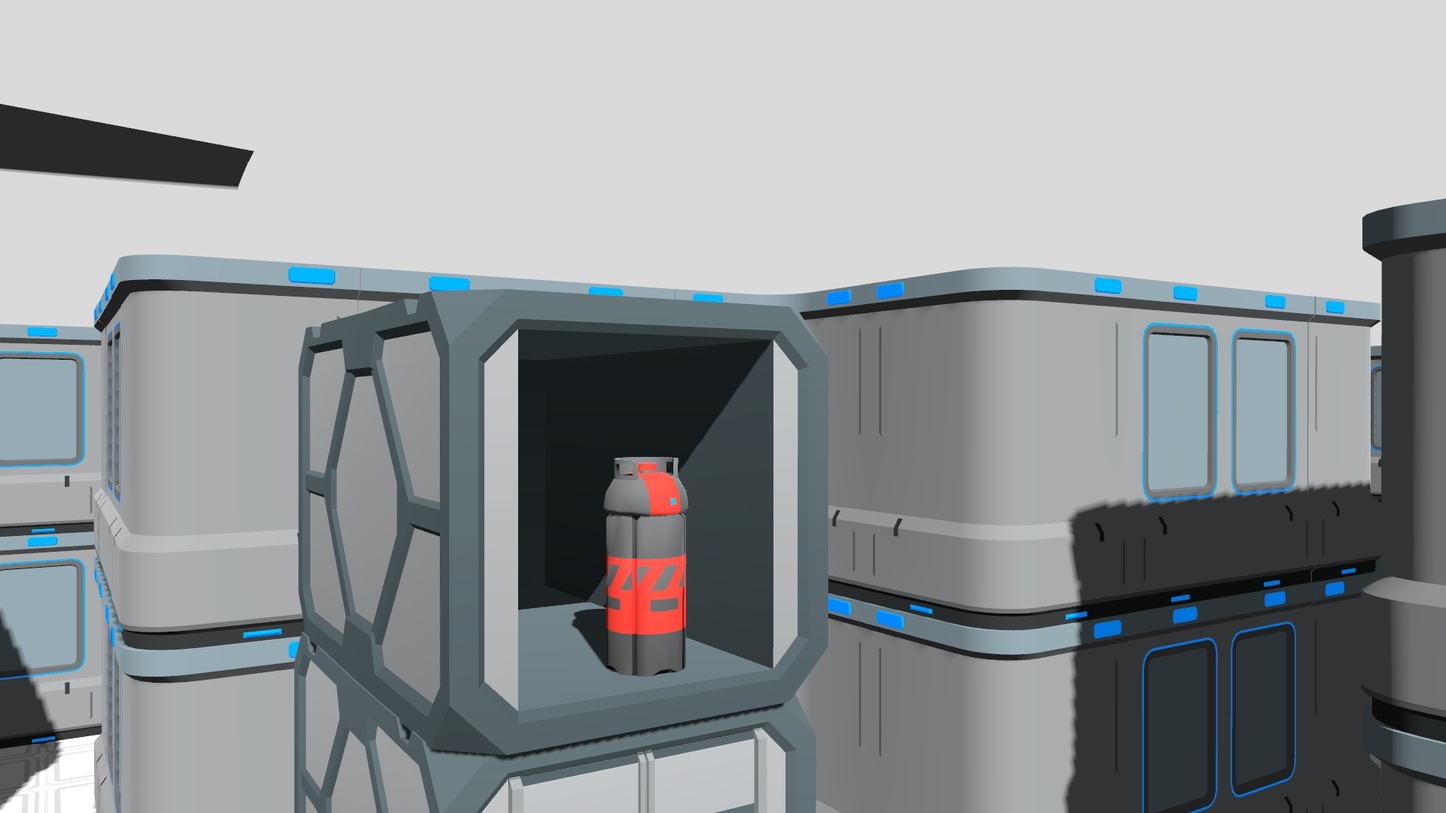red_barrel: (595, 447, 695, 684)
